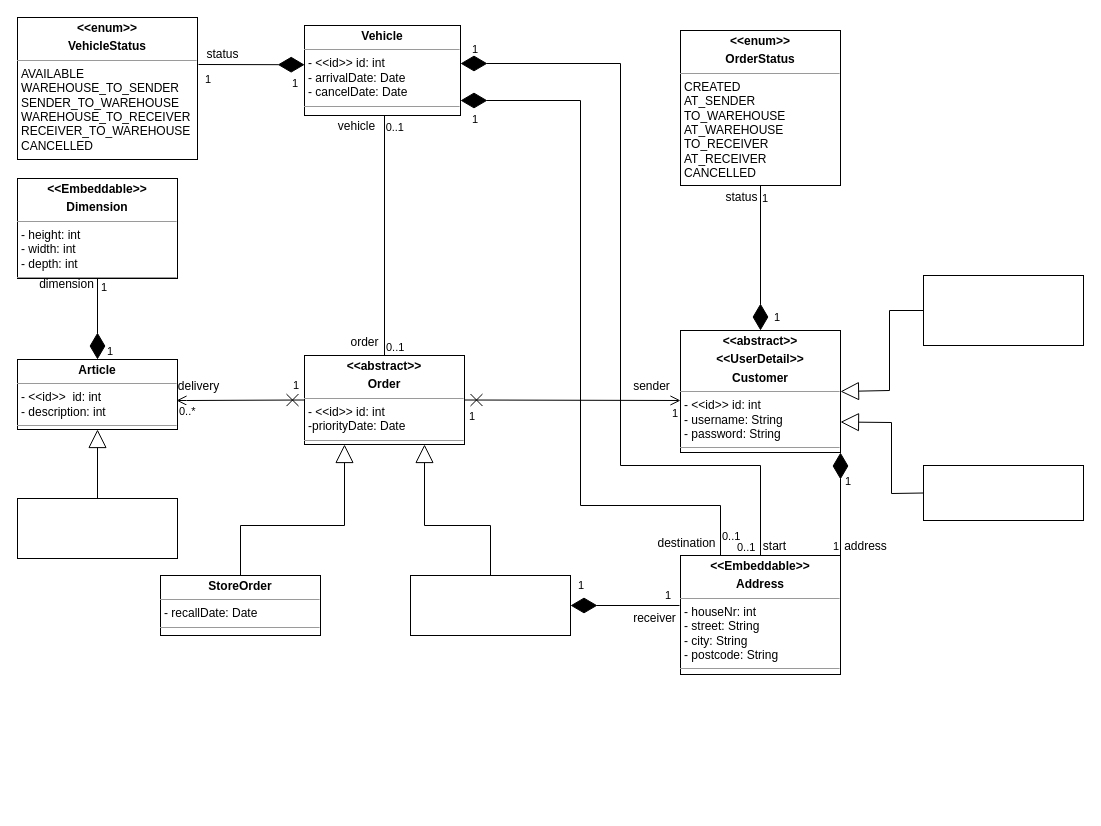
This 1101x826 diagram has some shape labels left out. The shapes that lost their labels are listed below. From the top down, each one's centre as x and y in pixels, then its label:
the point at 1003,310: Person - surname: String - name: String
the point at 1003,492: Company - name: String
the point at 97,528: Letter
the point at 490,605: DeliveryOrder
